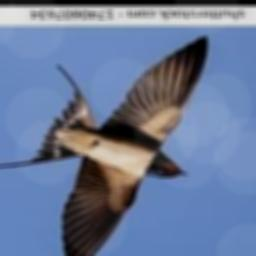Swallow: (0, 35, 208, 256)
